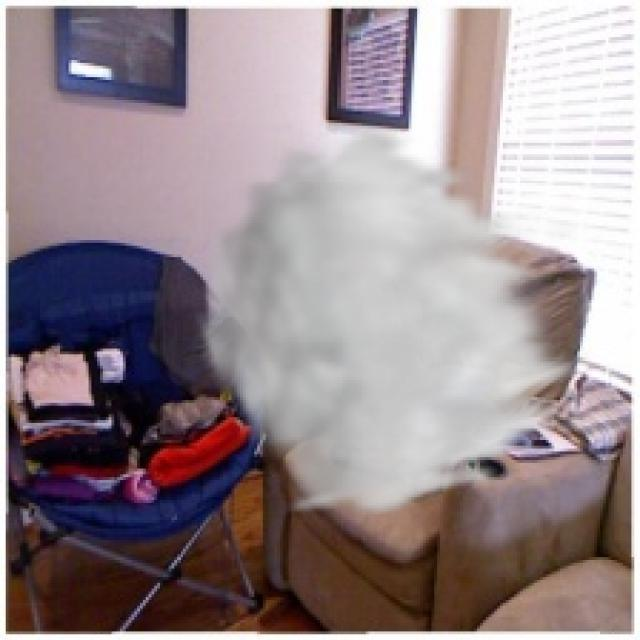Smoke: (192, 123, 594, 520)
